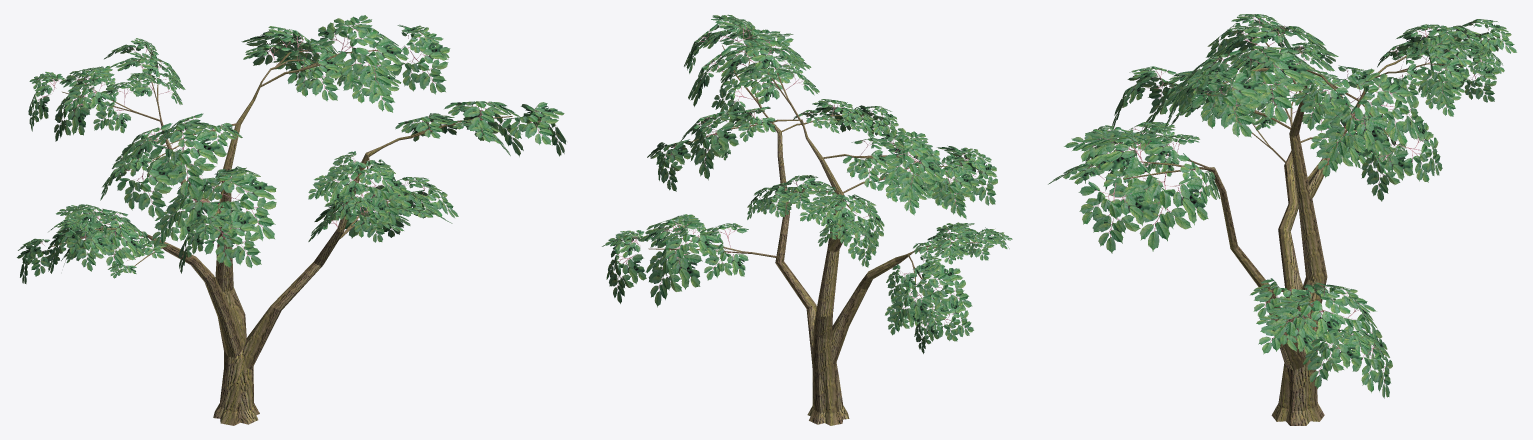
The model's file is elm-tree.obj.
3 views of the same model, side by side, from view 1: azimuth 30°, elevation 25°; view 2: azimuth 150°, elevation 25°; view 3: azimuth 270°, elevation 25° (orthographic). The views are drawn at different scales.
Visible parts, largest first — view 1: Circle, Plane.093_Plane.018, Plane.081_Plane.016, Plane.104_Plane.020, Plane.106_Plane.020, Plane.095_Plane.018, Plane.083_Plane.016, Plane.078_Plane.016, Plane.079_Plane.016, Plane.004_Plane.001, Plane.103_Plane.020, Plane.027_Plane.005 (+23 smaller); view 2: Circle, Plane.115_Plane.022, Plane.092_Plane.018, Plane.071_Plane.014, Plane.117_Plane.022, Plane.094_Plane.018, Plane.111_Plane.022, Plane.113_Plane.022, Plane.016_Plane.002, Plane.090_Plane.018, Plane.015_Plane.002, Plane.089_Plane.018 (+35 smaller); view 3: Circle, Plane.005_Plane.001, Plane.003_Plane.001, Plane.082_Plane.016, Plane.084_Plane.016, Plane.070_Plane.014, Plane.114_Plane.022, Plane.006_Plane.001, Plane.067_Plane.014, Plane.072_Plane.014, Plane.116_Plane.022, Plane.071_Plane.014 (+31 smaller).
Boxes of the visible parts, x1,y1,x2,y2 form: Circle: (146,79,387,425); Plane.093_Plane.018: (149,131,227,199); Plane.081_Plane.016: (333,38,408,97); Plane.104_Plane.020: (206,173,276,240); Plane.106_Plane.020: (204,210,261,267); Plane.095_Plane.018: (117,159,179,217); Plane.083_Plane.016: (393,38,450,94); Plane.078_Plane.016: (315,15,377,55); Plane.079_Plane.016: (287,52,344,101); Plane.004_Plane.001: (502,102,564,144); Plane.103_Plane.020: (160,185,213,233); Plane.027_Plane.005: (90,220,144,272); Circle: (772,119,914,425); Plane.115_Plane.022: (645,236,702,307); Plane.092_Plane.018: (884,152,943,201); Plane.071_Plane.014: (690,122,738,180); Plane.117_Plane.022: (606,246,646,303); Plane.094_Plane.018: (927,169,978,215); Plane.111_Plane.022: (662,226,717,264); Plane.113_Plane.022: (702,237,748,280); Plane.016_Plane.002: (923,265,972,314); Plane.090_Plane.018: (843,150,891,189); Plane.015_Plane.002: (891,280,930,325); Plane.089_Plane.018: (877,128,927,163); Circle: (1206,76,1376,425); Plane.005_Plane.001: (1122,162,1208,251); Plane.003_Plane.001: (1078,181,1154,253); Plane.082_Plane.016: (1222,52,1315,123); Plane.084_Plane.016: (1192,72,1267,137); Plane.070_Plane.014: (1320,96,1388,162); Plane.114_Plane.022: (1270,289,1345,344); Plane.006_Plane.001: (1081,129,1162,171); Plane.067_Plane.014: (1346,68,1409,120); Plane.072_Plane.014: (1361,147,1413,201); Plane.116_Plane.022: (1302,337,1361,388); Plane.071_Plane.014: (1370,78,1426,145).
Bounding box in the file's own units: 20.78 × 17.61 × 18.09.
